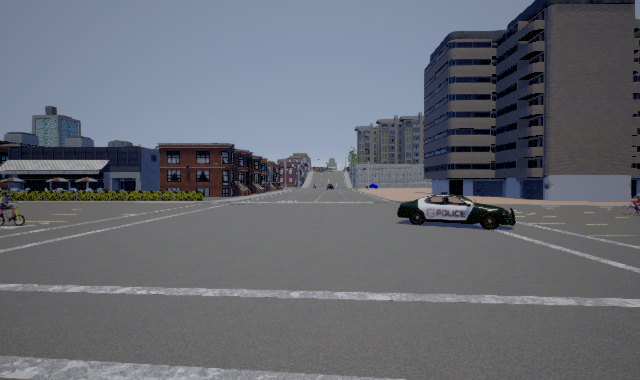bike: (1, 192, 30, 228), (622, 188, 640, 219)
vehicle: (397, 192, 516, 230)
